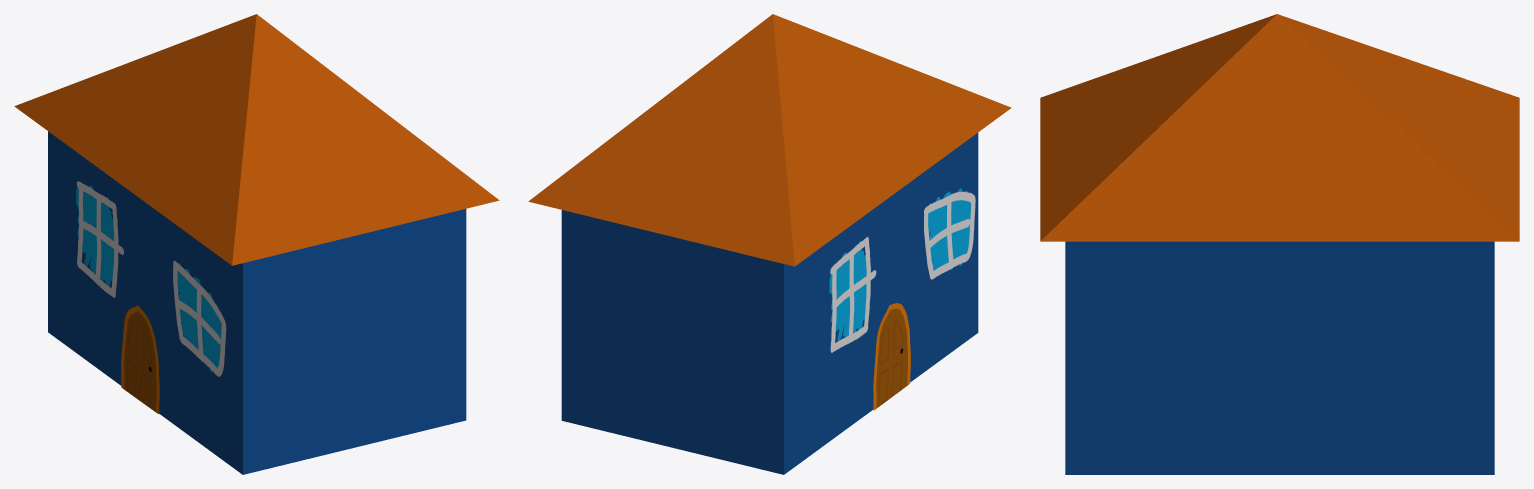
The model's file is blue_house.glb.
3 views of the same model, side by side, from view 1: azimuth 30°, elevation 25°; view 2: azimuth 150°, elevation 25°; view 3: azimuth 270°, elevation 25° (orthographic). The views are drawn at different scales.
Parts seen in each view (by area): view 1: RedHouse.008, Roof.008, Decorations.008; view 2: RedHouse.008, Roof.008, Decorations.008; view 3: RedHouse.008, Roof.008.
Boxes of the visible parts, x1,y1,x2,y2 form: RedHouse.008: [48, 131, 466, 474]; Roof.008: [14, 14, 499, 265]; Decorations.008: [76, 181, 226, 413]; RedHouse.008: [561, 132, 978, 474]; Roof.008: [528, 14, 1011, 266]; Decorations.008: [829, 188, 975, 410]; RedHouse.008: [1065, 241, 1494, 474]; Roof.008: [1040, 14, 1519, 241].
Size of the model in its own units: 12.2 by 15.83 by 17.2.
3 materials, 3 textured.
